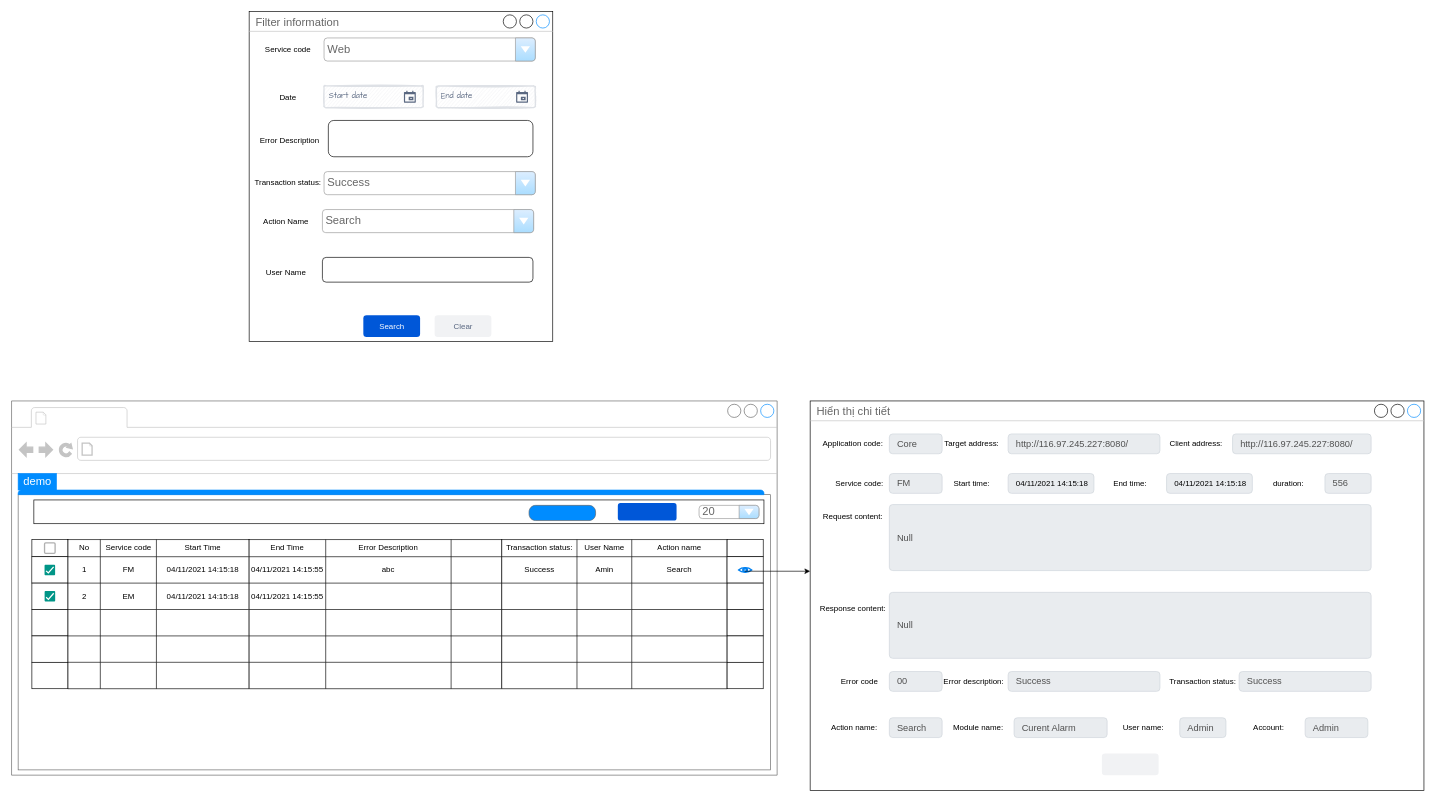
The diagram is 1436 pixels wide and 802 high, and some of its shapes have lost their labels. Each missing label, with the centre of its shape:
"Acction" goes at (x=744, y=548).
"admin;super_admin" goes at (x=427, y=269).
"Close" goes at (x=1130, y=764).
"Filter" goes at (x=646, y=511).
"https://www.demo.io" goes at (x=179, y=449).
"Page 1" goes at (x=87, y=417).
"Refresh" goes at (x=562, y=513).
